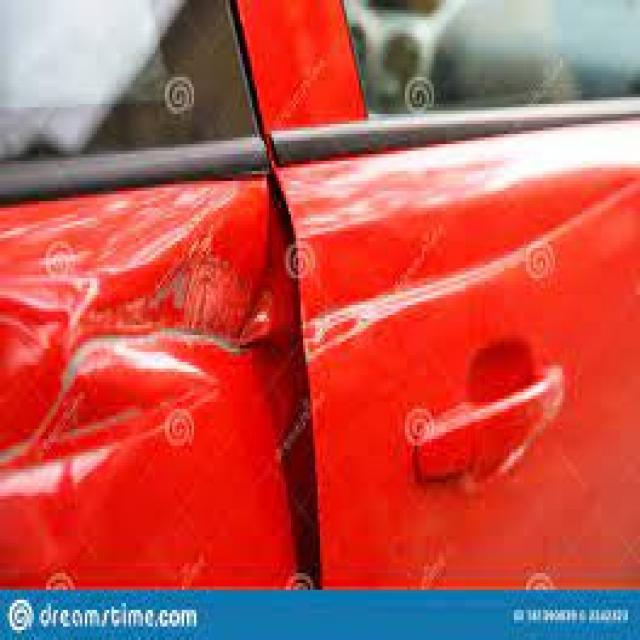dent-or-scratch: (305, 168, 640, 336), (11, 224, 288, 379)
